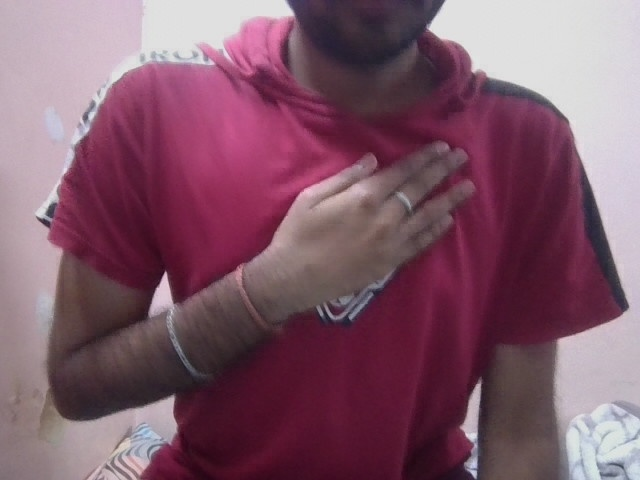Please: (262, 140, 483, 286)
